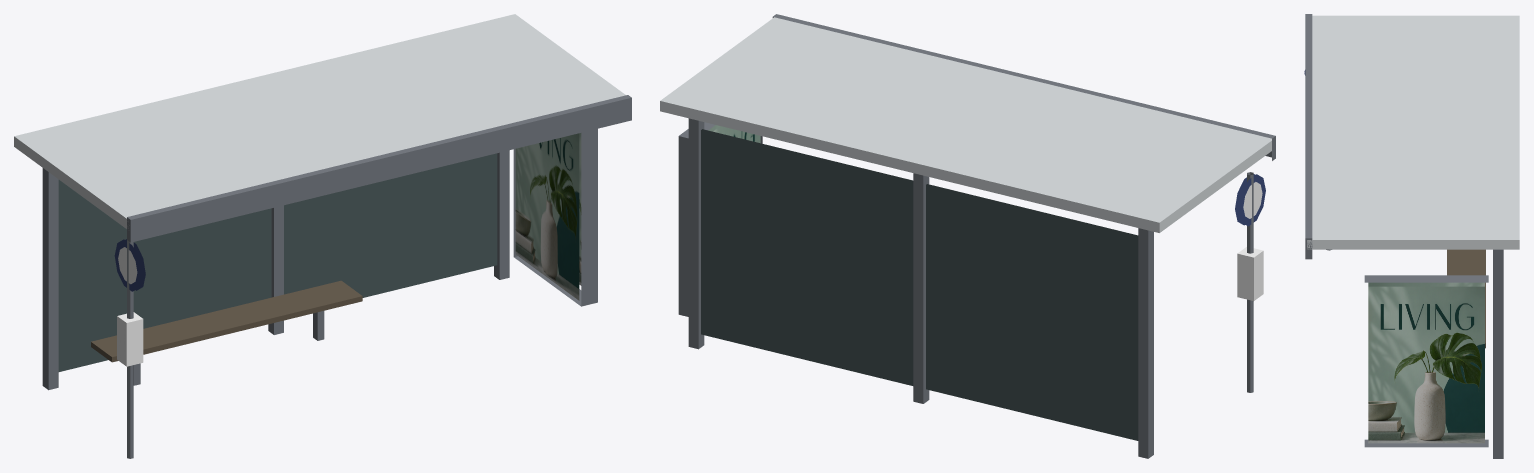
File: site_shelter.fbx
3 views of the same model, side by side, from view 1: azimuth 30°, elevation 25°; view 2: azimuth 150°, elevation 25°; view 3: azimuth 270°, elevation 25° (orthographic). The views are drawn at different scales.
Visible parts, largest first — view 1: a3002/0/site_shelter; view 2: a3002/0/site_shelter; view 3: a3002/0/site_shelter.
Part boxes in pixels (box(x1,y1,x2,y2)): a3002/0/site_shelter: box(14, 14, 631, 458); a3002/0/site_shelter: box(660, 14, 1275, 458); a3002/0/site_shelter: box(1304, 14, 1519, 458).
Size of the model in its own units: 6 by 2.86 by 2.43.
